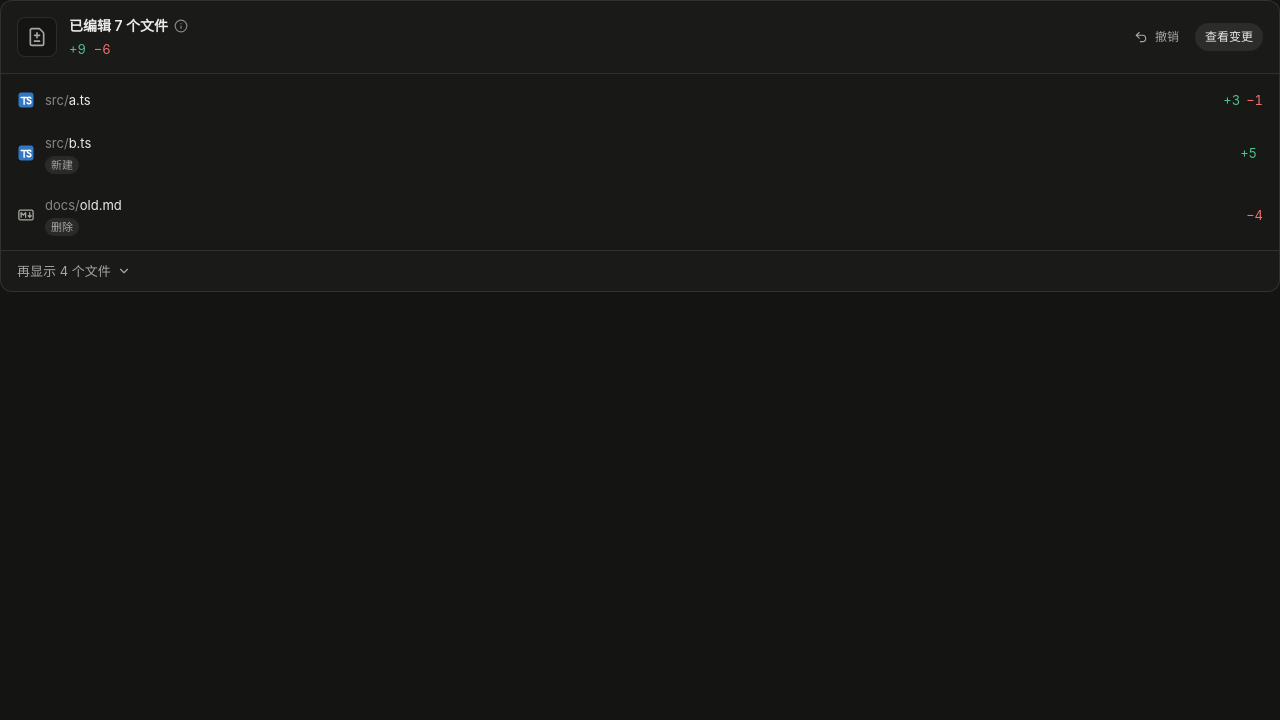
it: TurnFilesCard › asks before undoing, with files that can be left out
The width and height of the screenshot is (1280, 720).
Click the button "撤销". click: (1156, 37)
box: [1123, 23, 1189, 51]
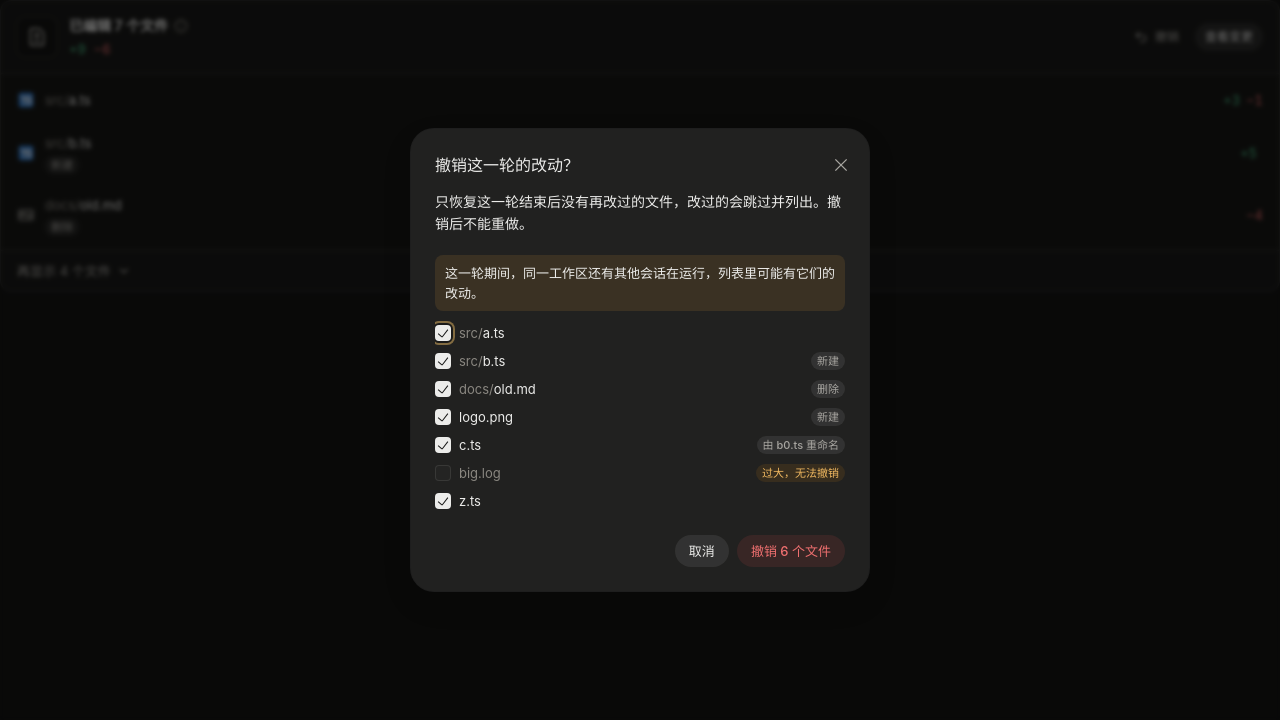
Now the dialog shows "撤销这一轮的改动？", box [435, 155, 579, 175]
Now the checkbox labelled "big.log 过大，无法撤销" is disabled, box [435, 459, 845, 487]
Click the checkbox labelled "src/ b.ts 新建". click: (828, 361)
box: [435, 347, 845, 375]
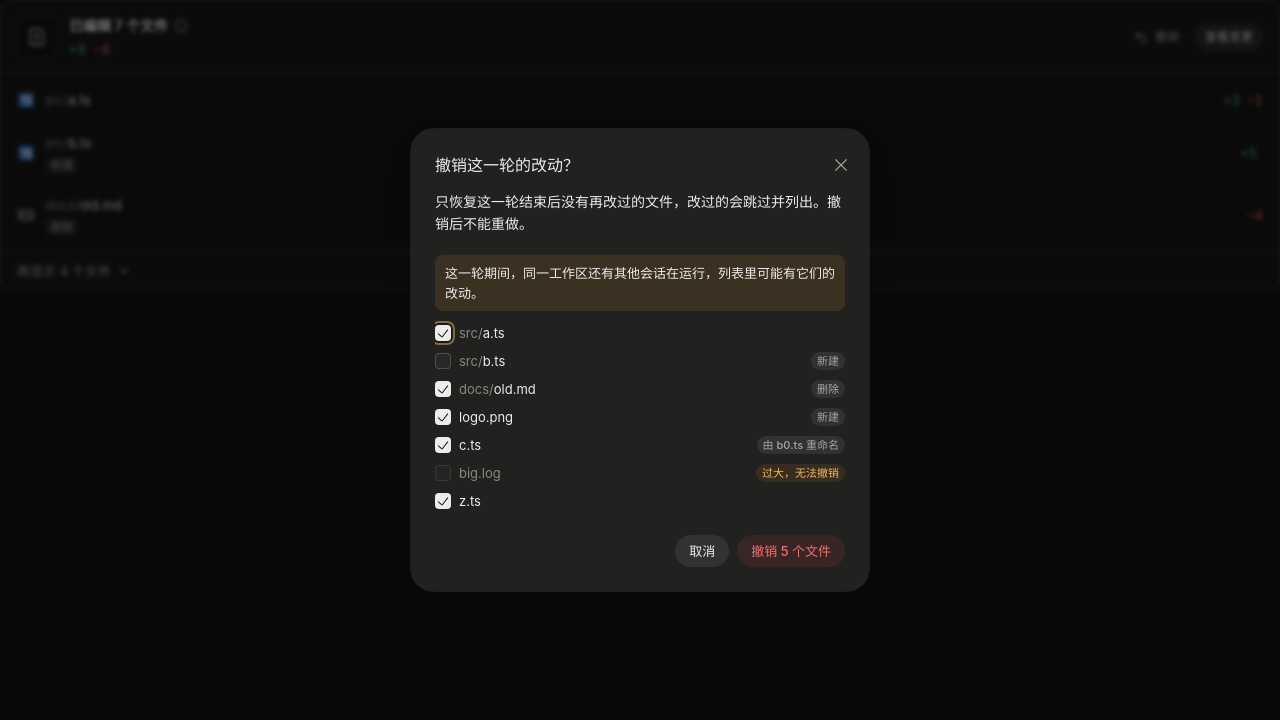
Now the button "撤销 5 个文件" is shown
Click the button "撤销 5 个文件". click: (791, 551)
box: [737, 535, 845, 567]
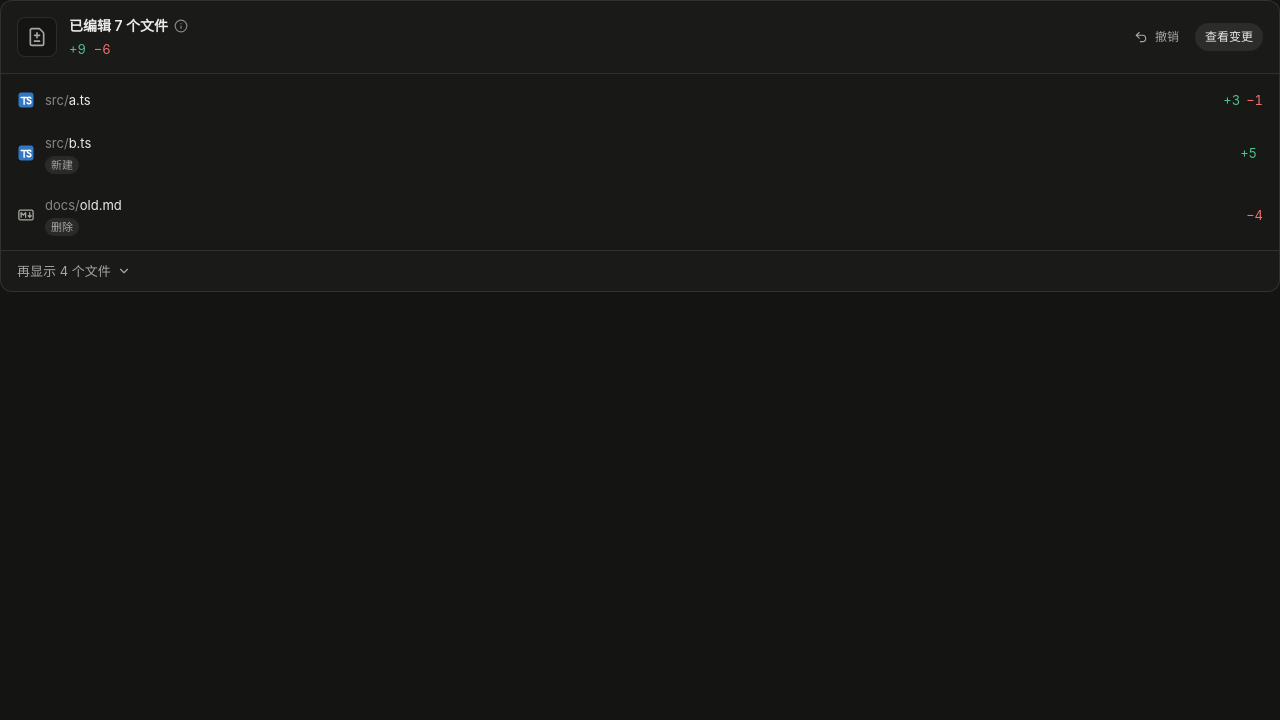
Now the dialog is gone
